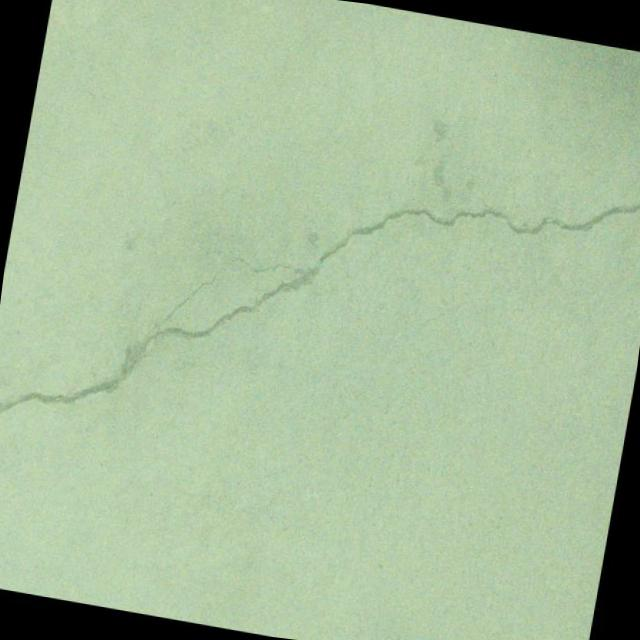crack: (0, 68, 640, 567)
